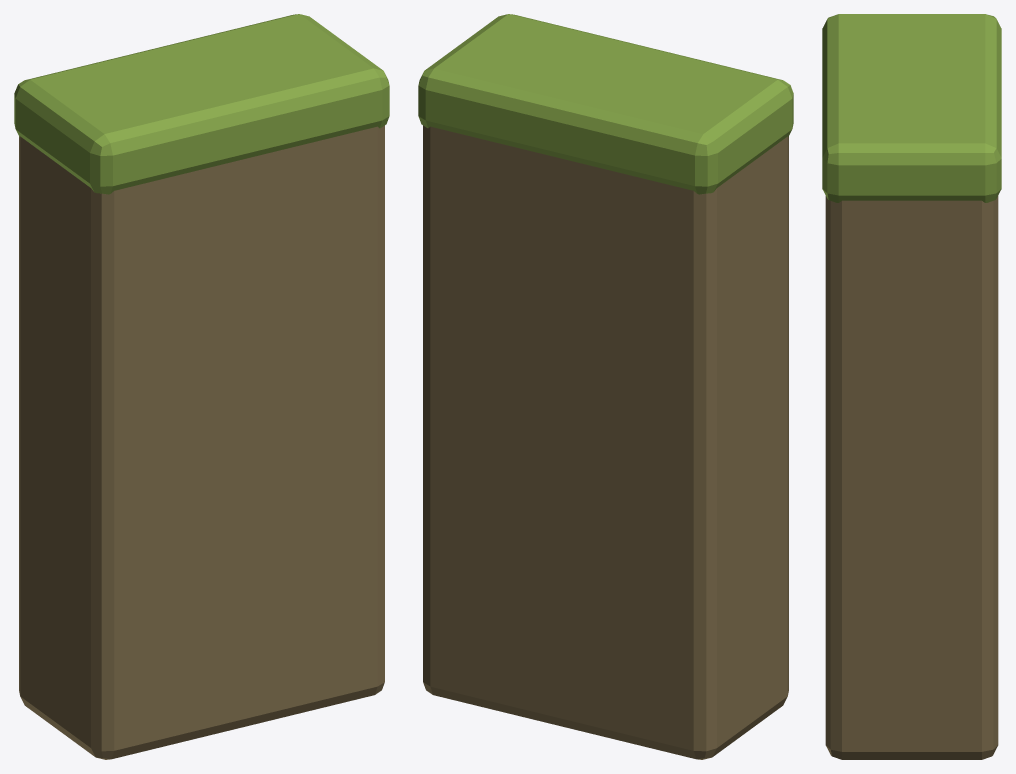
File: SM_Platform_1m_Half_01_C.fbx
The picture shows the model from 3 angles, left to right: view 1: azimuth 30°, elevation 25°; view 2: azimuth 150°, elevation 25°; view 3: azimuth 270°, elevation 25°; orthographic projection.
Visible parts, largest first — view 1: polySurface73; view 2: polySurface73; view 3: polySurface73.
Boxes of the visible parts, bbox=[...] form: polySurface73: bbox=[14, 14, 389, 759]; polySurface73: bbox=[418, 14, 793, 759]; polySurface73: bbox=[822, 14, 1001, 759].
Bounding box in the file's own units: 102 × 205 × 54.
